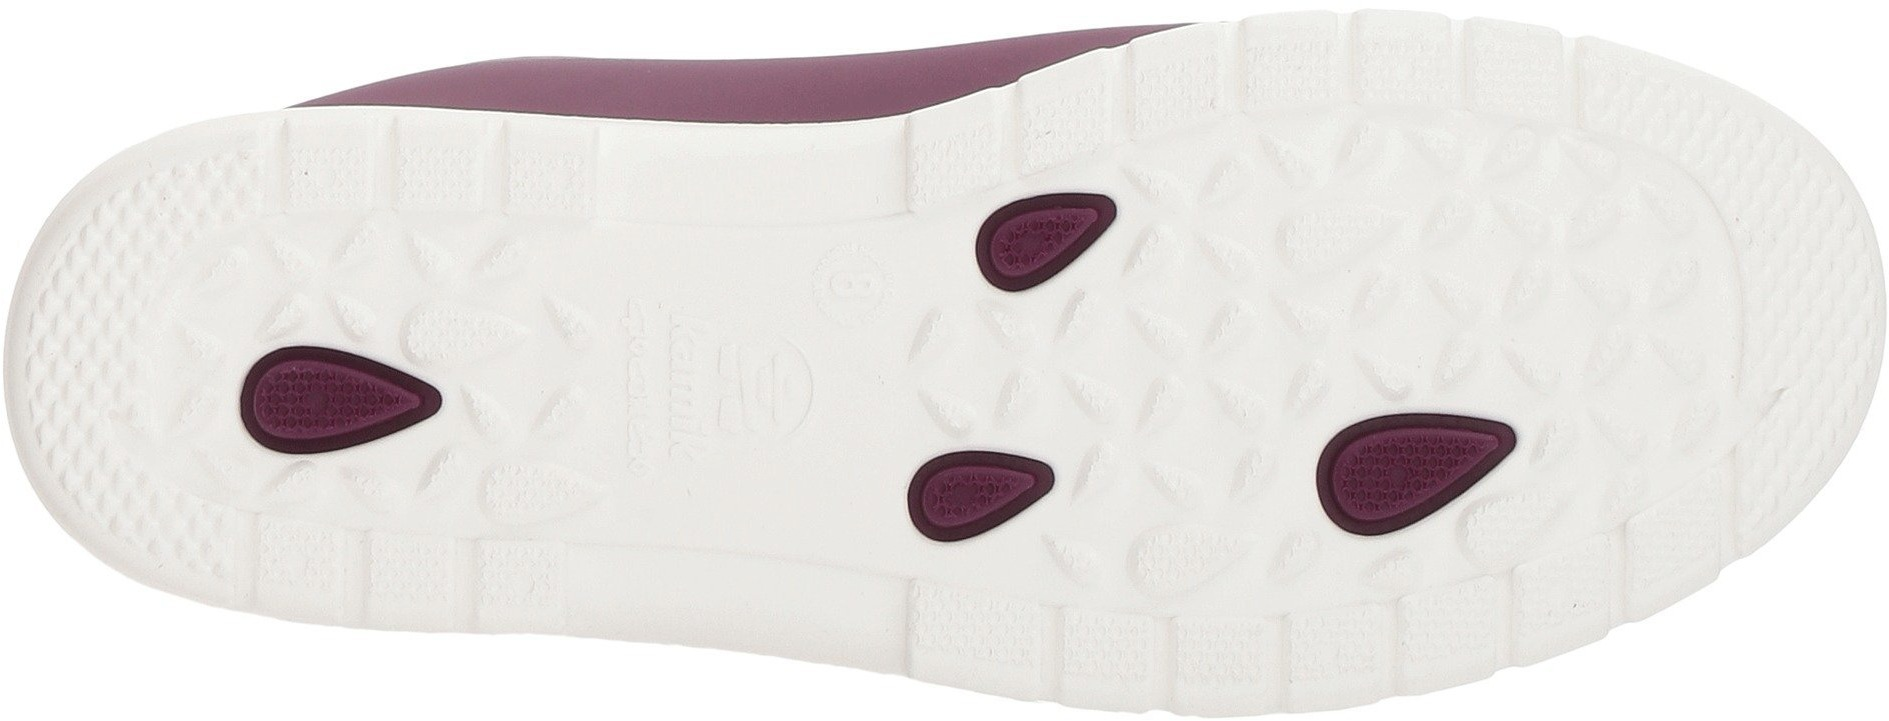circle: (239, 305, 451, 503), (888, 401, 1075, 576), (823, 259, 883, 317)
other: (1753, 238, 1867, 350), (757, 455, 863, 559), (49, 312, 143, 405), (726, 238, 820, 324)
quad: (1346, 6, 1575, 227)
text: (657, 309, 719, 373), (823, 259, 883, 317), (661, 405, 718, 467)
triangle: (1170, 104, 1434, 362), (1042, 367, 1291, 597), (1482, 181, 1714, 401), (447, 369, 622, 539), (249, 215, 395, 348)
